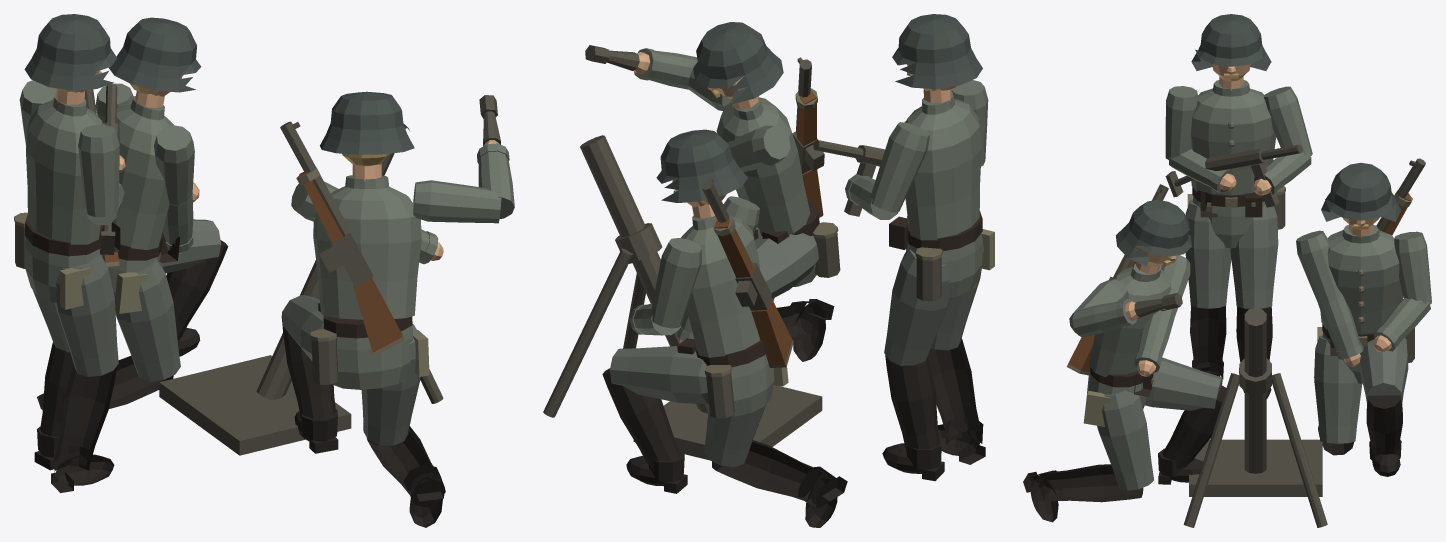
File: de_mortar_team.obj
3 renders of one model, left to right at view 1: azimuth 30°, elevation 25°; view 2: azimuth 150°, elevation 25°; view 3: azimuth 270°, elevation 25°, orthographic. The views are drawn at different scales.
Size of the model in its own units: 1.86 by 2 by 1.83.
